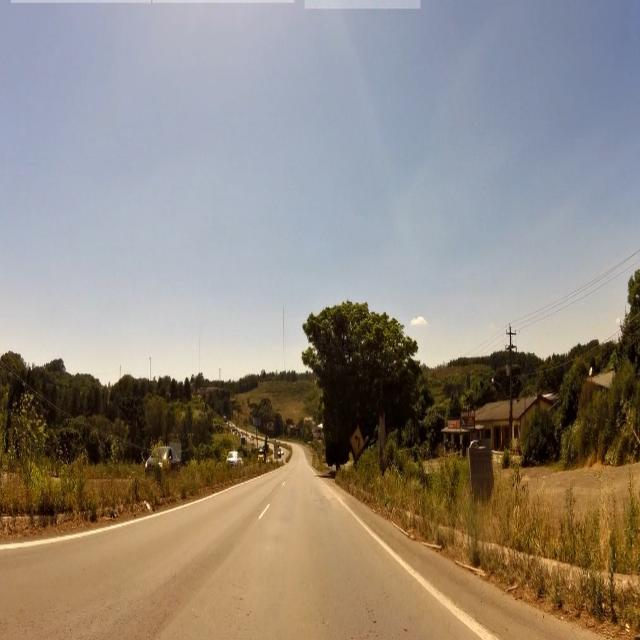A-1a: (349, 426, 364, 457)
